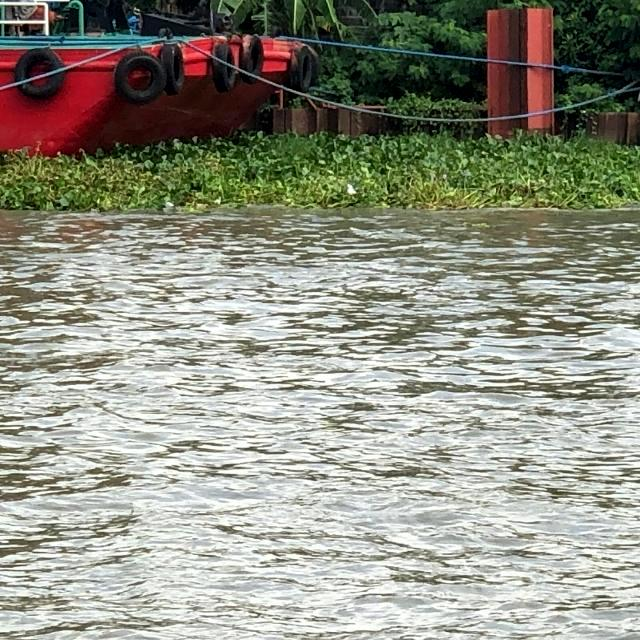water-hyacinth: (1, 117, 640, 215)
